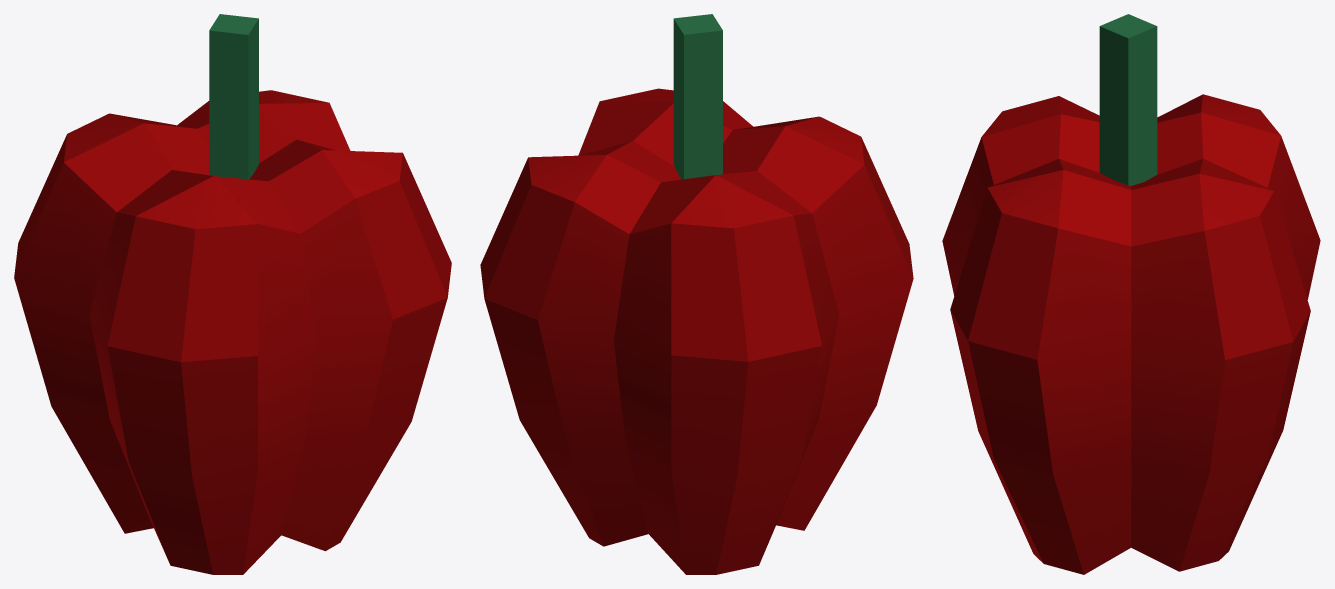
File: bellpepper_1.FBX
3 views of the same model, side by side, from view 1: azimuth 30°, elevation 25°; view 2: azimuth 150°, elevation 25°; view 3: azimuth 270°, elevation 25° (orthographic).
Visible parts, largest first — view 1: bellpepper_1; view 2: bellpepper_1; view 3: bellpepper_1.
Boxes of the visible parts, bbox=[...] form: bellpepper_1: bbox=[14, 14, 451, 574]; bellpepper_1: bbox=[480, 14, 913, 574]; bellpepper_1: bbox=[942, 14, 1320, 574].
Size of the model in its own units: 0.1367 by 0.1918 by 0.1291.
1 material, 1 textured.
